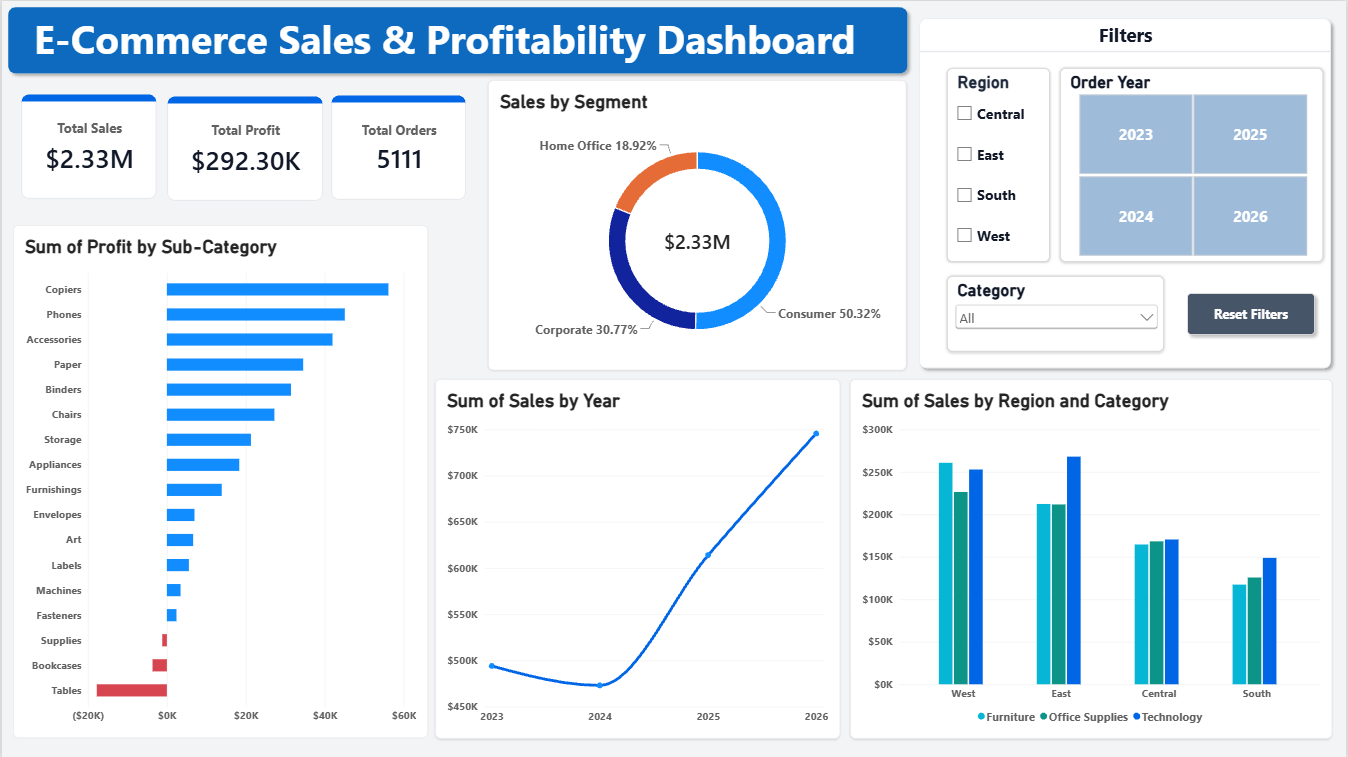

This screenshot's page, from the dashboard's own definition file:
{"tool":"powerbi","page":{"name":"Page 1","canvas":[1920,1080],"ordinal":0},"visuals":[{"type":"shape","box":[0,0,1302.2,112.2],"z":0},{"type":"shape","box":[1302,16,606,518],"z":1000},{"type":"textbox","box":[46,16,1200,80],"z":2000},{"type":"cardVisual","fields":{"Data":["Sum(cleaned_superstore.Sales)"]},"box":[27.7,132.8,194,150.3],"z":3000},{"type":"cardVisual","fields":{"Data":["Sum(cleaned_superstore.Profit)"]},"box":[235,135,223.3,150],"z":4000},{"type":"cardVisual","fields":{"Data":["Count(cleaned_superstore.Order_ID)"]},"box":[470,134.3,193.6,150.7],"z":5000},{"type":"slicer","fields":{"Values":["cleaned_superstore.Region"]},"box":[1350,95.6,146.7,276.7],"z":6000},{"type":"slicer","fields":{"Values":["cleaned_superstore.Order_Year"]},"box":[1511.1,95.6,375.6,276.7],"z":7000},{"type":"clusteredBarChart","title":"Sum of Profit by Sub-Category","fields":{"Category":["cleaned_superstore.Sub_Category"],"Y":["Sum(cleaned_superstore.Profit)"]},"box":[15,320,593.3,733.3],"z":8000},{"type":"lineChart","fields":{"Category":["cleaned_superstore.Order_Month.Variation.Date Hierarchy.Year","cleaned_superstore.Order_Month.Variation.Date Hierarchy.Quarter","cleaned_superstore.Order_Month.Variation.Date Hierarchy.Month","cleaned_superstore.Order_Month.Variation.Date Hierarchy.Day"],"Y":["Sum(cleaned_superstore.Sales)"]},"box":[619,539.6,578.5,514.1],"z":9000},{"type":"lineClusteredColumnComboChart","fields":{"Category":["cleaned_superstore.Region"],"Series":["cleaned_superstore.Category"],"Y":["Sum(cleaned_superstore.Sales)"]},"box":[1211.1,539.6,689.5,514.1],"z":10000},{"type":"textbox","box":[1525.6,30,158.6,35.7],"z":11000},{"type":"slicer","fields":{"Values":["cleaned_superstore.Category"]},"box":[1350,393.3,310,107.8],"z":12000},{"type":"donutChart","title":"Sales by Segment","fields":{"Category":["cleaned_superstore.Segment"],"Y":["Sum(cleaned_superstore.Sales)"]},"box":[694,112.4,598,415.2],"z":13000},{"type":"shape","box":[1311.1,55.6,586,33],"z":14000},{"type":"actionButton","box":[1684.3,408.6,200,77.1],"z":15000}]}

Visuals, with their boxes in screenshot pixels (x1, y1, x2, y2), scaled from the page's 1920x1080 canvas onto the 1348x757 screenshot:
shape: box=[0, 0, 914, 79]
shape: box=[914, 11, 1340, 374]
textbox: box=[32, 11, 875, 67]
cardVisual - Sum(cleaned_superstore.Sales): box=[19, 93, 156, 198]
cardVisual - Sum(cleaned_superstore.Profit): box=[165, 95, 322, 200]
cardVisual - Count(cleaned_superstore.Order_ID): box=[330, 94, 466, 200]
slicer - cleaned_superstore.Region: box=[948, 67, 1051, 261]
slicer - cleaned_superstore.Order_Year: box=[1061, 67, 1325, 261]
"Sum of Profit by Sub-Category" clusteredBarChart: box=[11, 224, 427, 738]
lineChart - cleaned_superstore.Order_Month.Variation.Date Hierarchy.Year x cleaned_superstore.Order_Month.Variation.Date Hierarchy.Quarter: box=[435, 378, 841, 739]
lineClusteredColumnComboChart - cleaned_superstore.Region x cleaned_superstore.Category: box=[850, 378, 1334, 739]
textbox: box=[1071, 21, 1182, 46]
slicer - cleaned_superstore.Category: box=[948, 276, 1165, 351]
"Sales by Segment" donutChart: box=[487, 79, 907, 370]
shape: box=[921, 39, 1332, 62]
actionButton: box=[1183, 286, 1323, 340]
